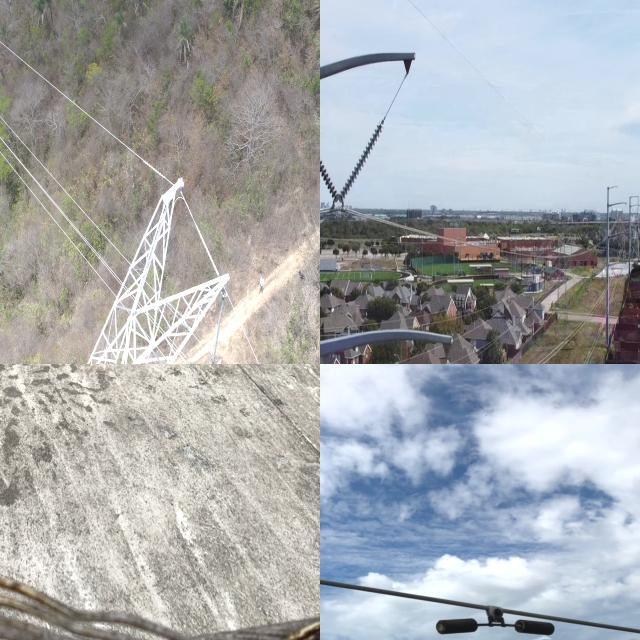杆塔: (320, 0, 456, 364), (0, 160, 239, 364)
正常电缆: (320, 570, 640, 640)
正常绝缘子: (333, 113, 387, 211), (209, 280, 226, 364), (320, 152, 341, 204)
